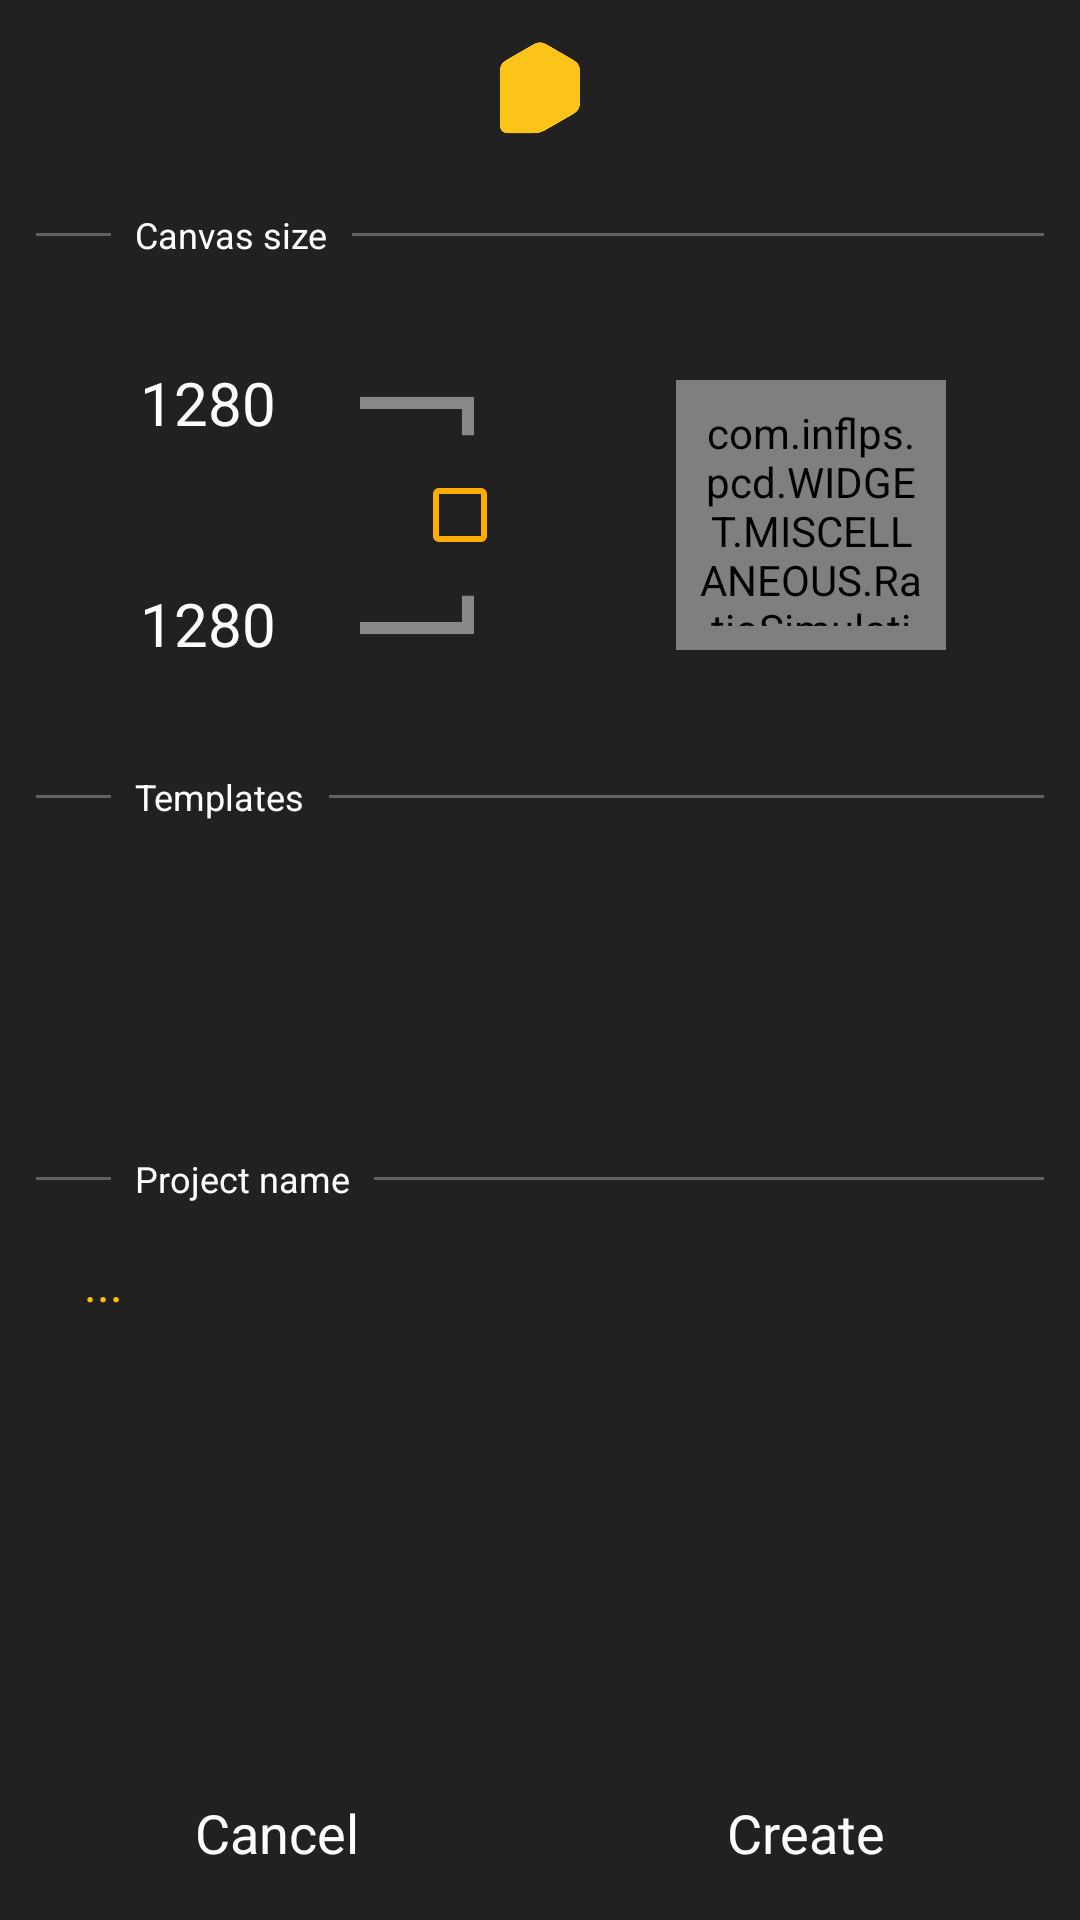

Screen size 1080*1920. Icon name, then its box in pixels as (x1, y1, x2, y2):
lshapedline: (360, 397, 474, 436)
